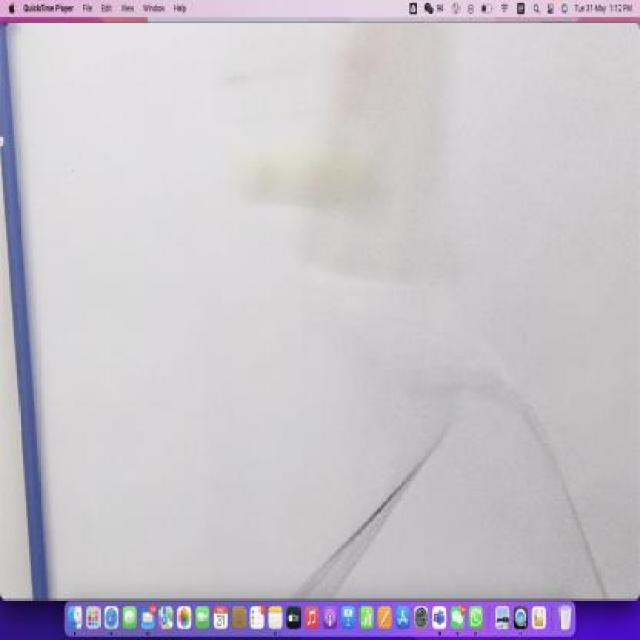baseball: (234, 138, 378, 216)
